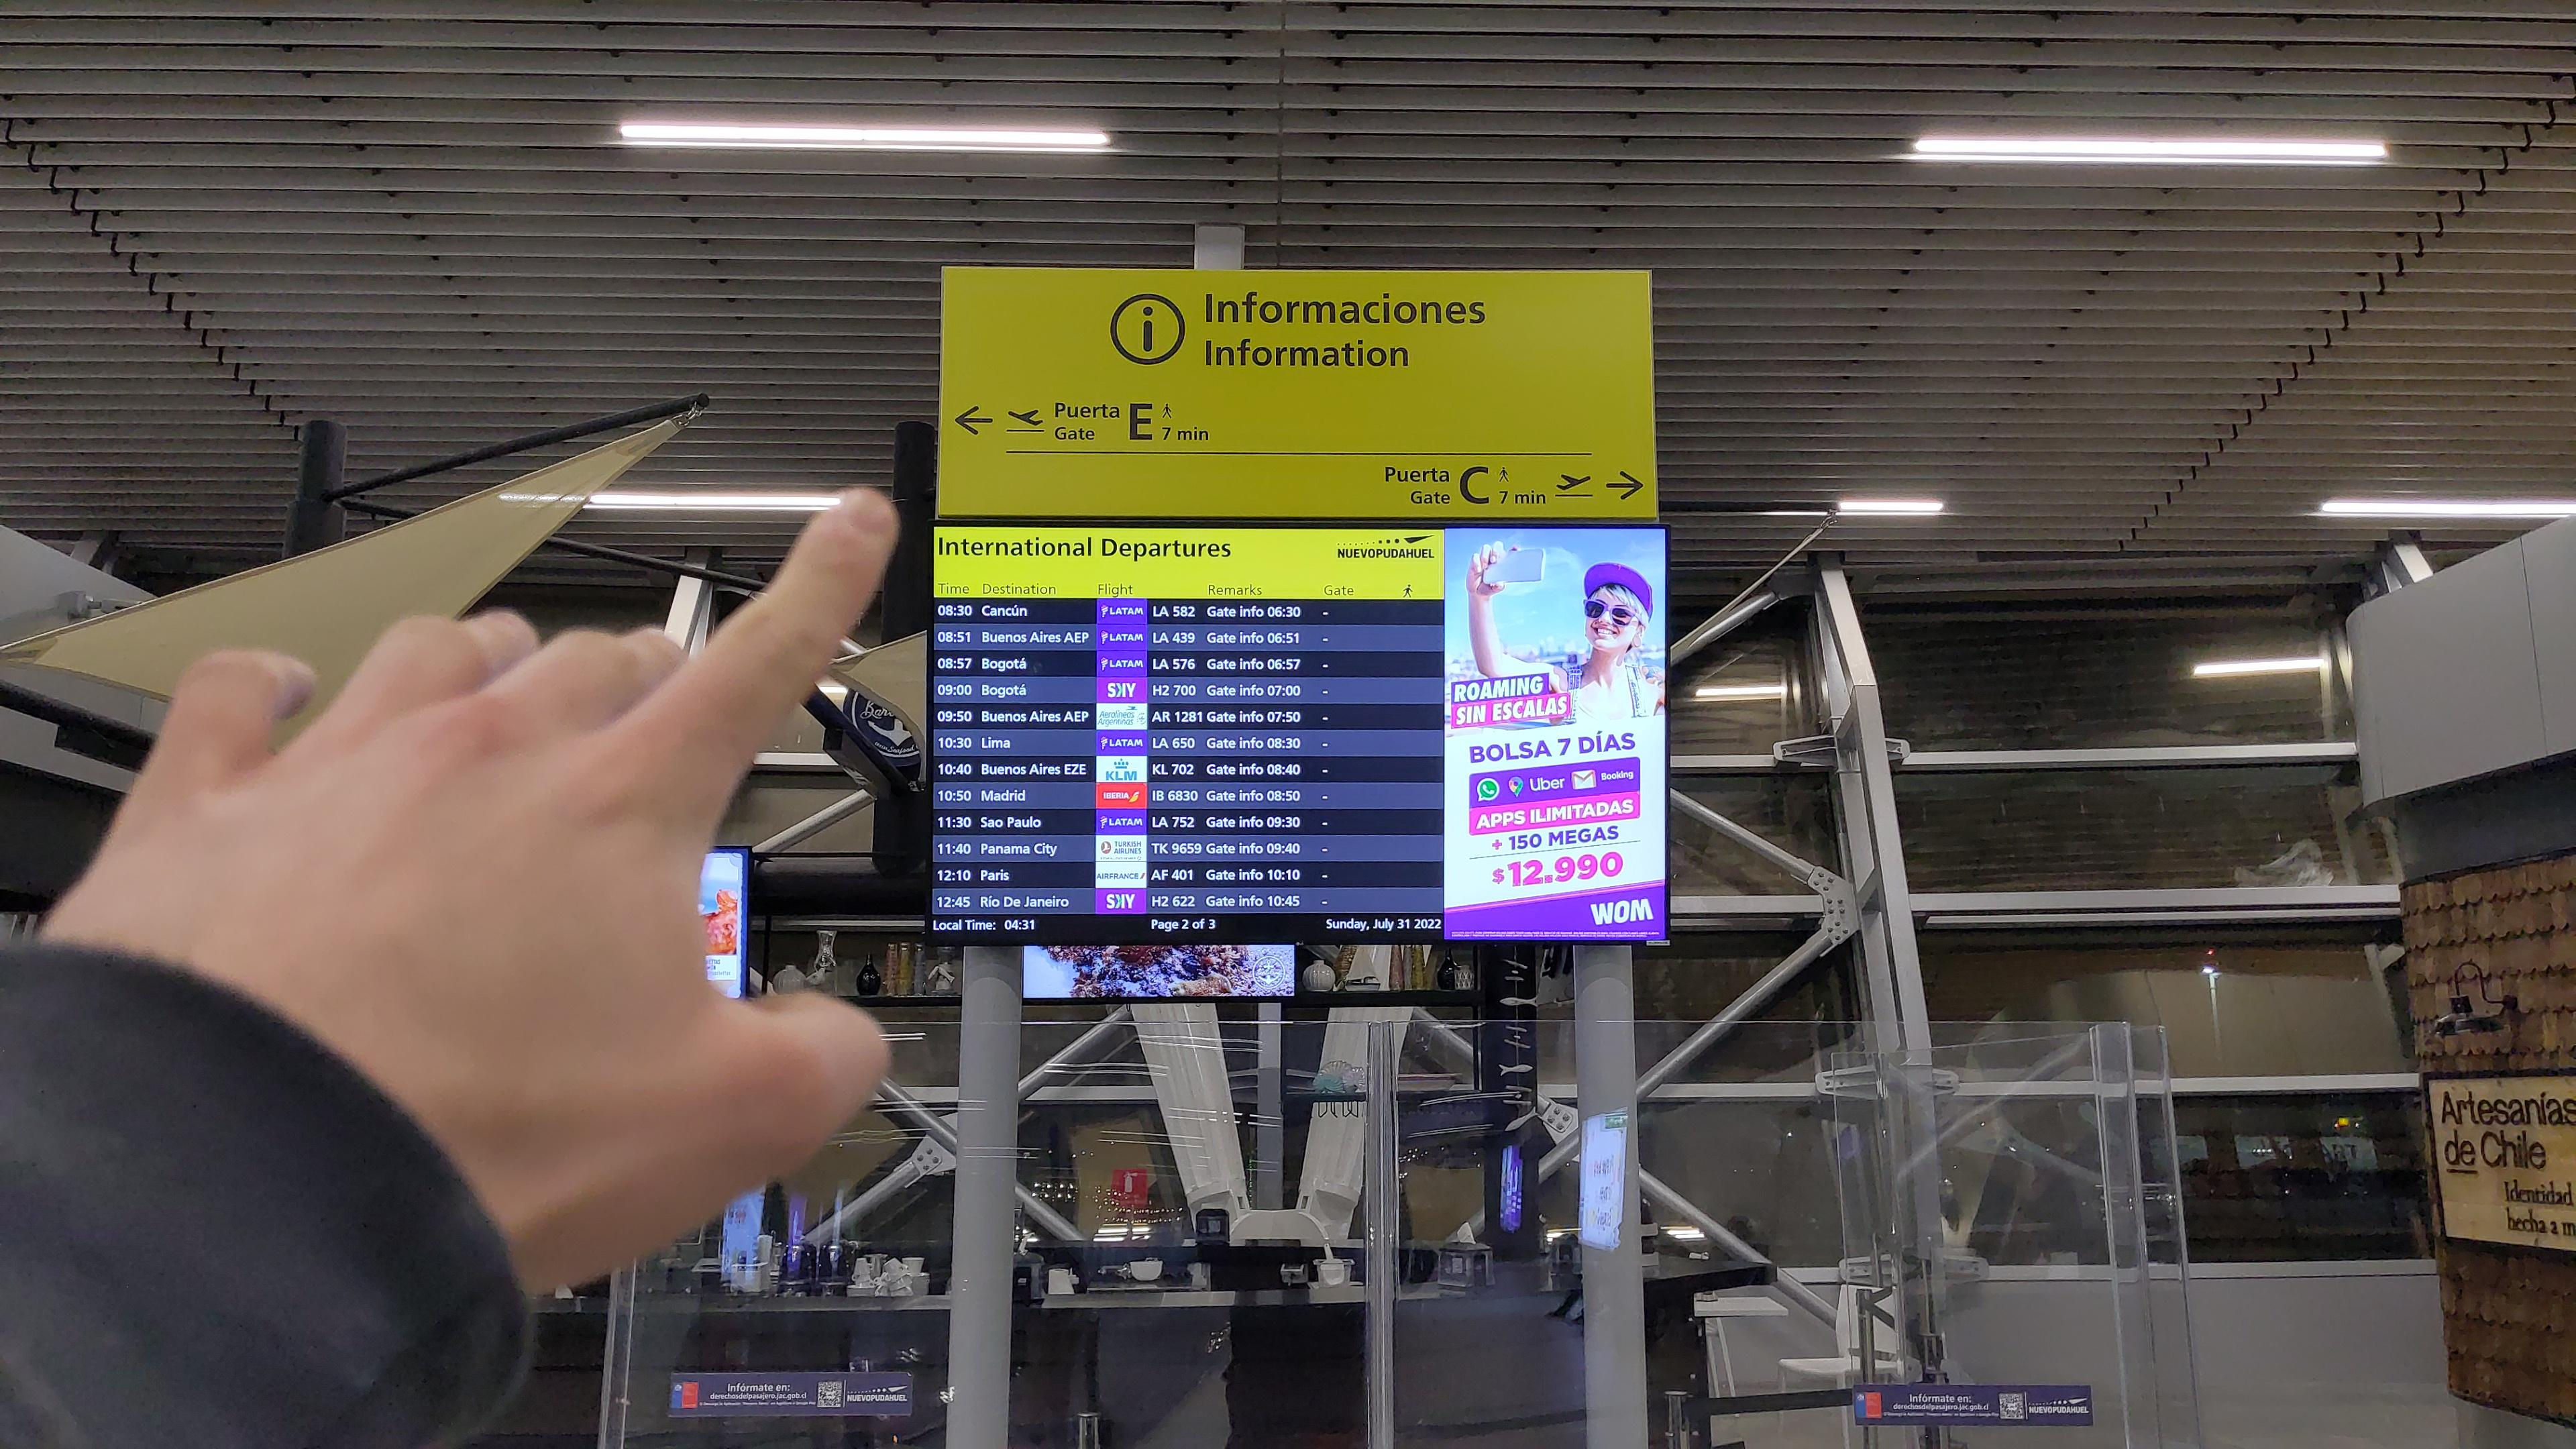airplane symbol: (1005, 405, 1046, 428), (1555, 472, 1592, 492)
extinguisher symbol: (1120, 1171, 1139, 1194)
thin left arrow: (952, 403, 996, 435)
thin right arrow: (1605, 471, 1645, 501)
